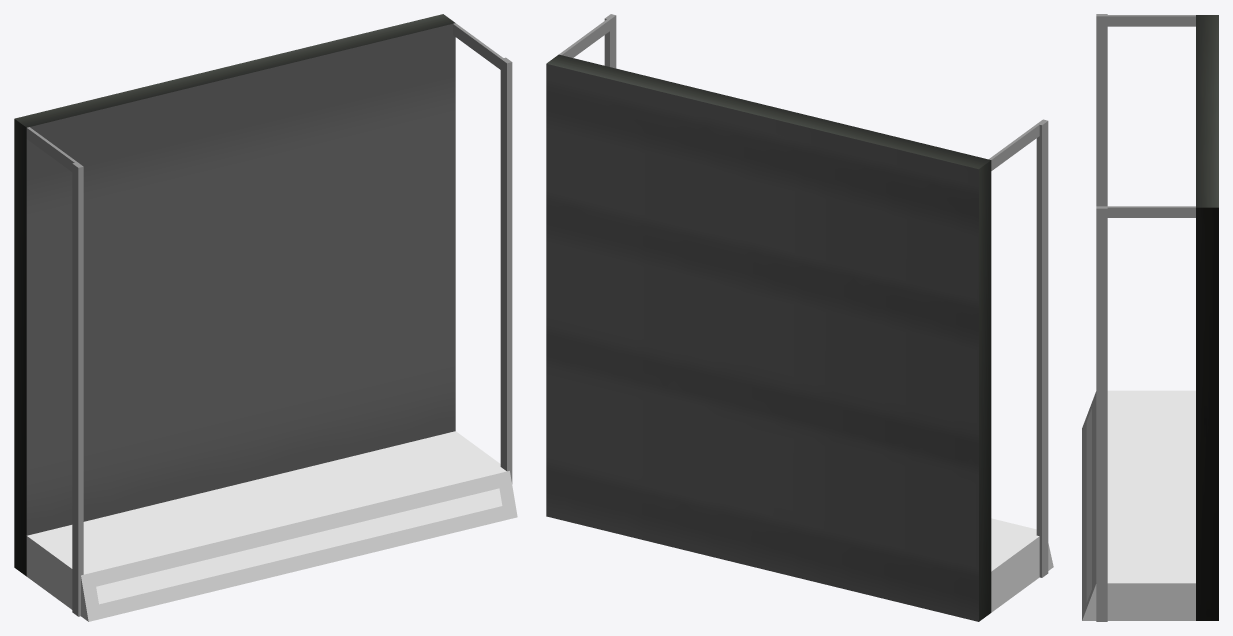
Rendered from scaffale_base.fbx.
3 renders of one model, left to right at view 1: azimuth 30°, elevation 25°; view 2: azimuth 150°, elevation 25°; view 3: azimuth 270°, elevation 25°, orthographic. The views are drawn at different scales.
Parts seen in each view (by area): view 1: Base; view 2: Base; view 3: Base.
Boxes of the visible parts, x1,y1,x2,y2 form: Base: (14,14,517,621); Base: (546,14,1053,621); Base: (1082,14,1218,621).
Size of the model in its own units: 202 by 200 by 60.
